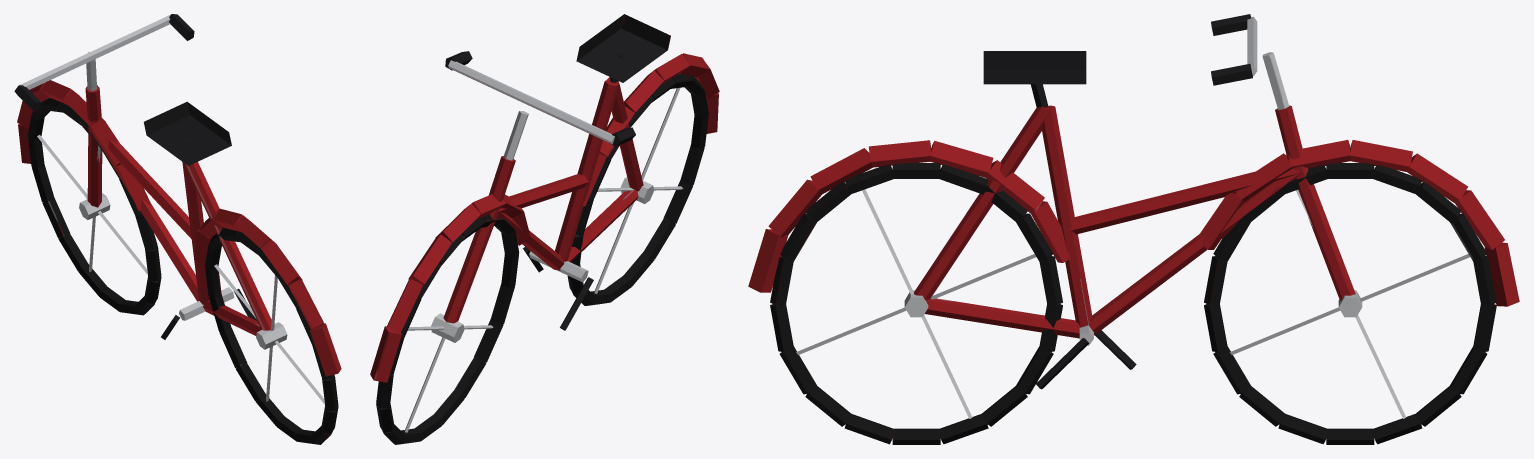
The model's file is kolo_5ba1ec71.glb.
3 renders of one model, left to right at view 1: azimuth 30°, elevation 25°; view 2: azimuth 150°, elevation 25°; view 3: azimuth 270°, elevation 25°, orthographic. The views are drawn at different scales.
Visible parts, largest first — view 1: dum; view 2: dum; view 3: dum.
Boxes of the visible parts, x1,y1,x2,y2 form: dum: (14,14,341,444); dum: (370,14,719,444); dum: (748,14,1519,444).
Bounding box in the file's own units: 0.5906 × 1.09 × 1.95.
Materials: 1 (1 with a texture image).
